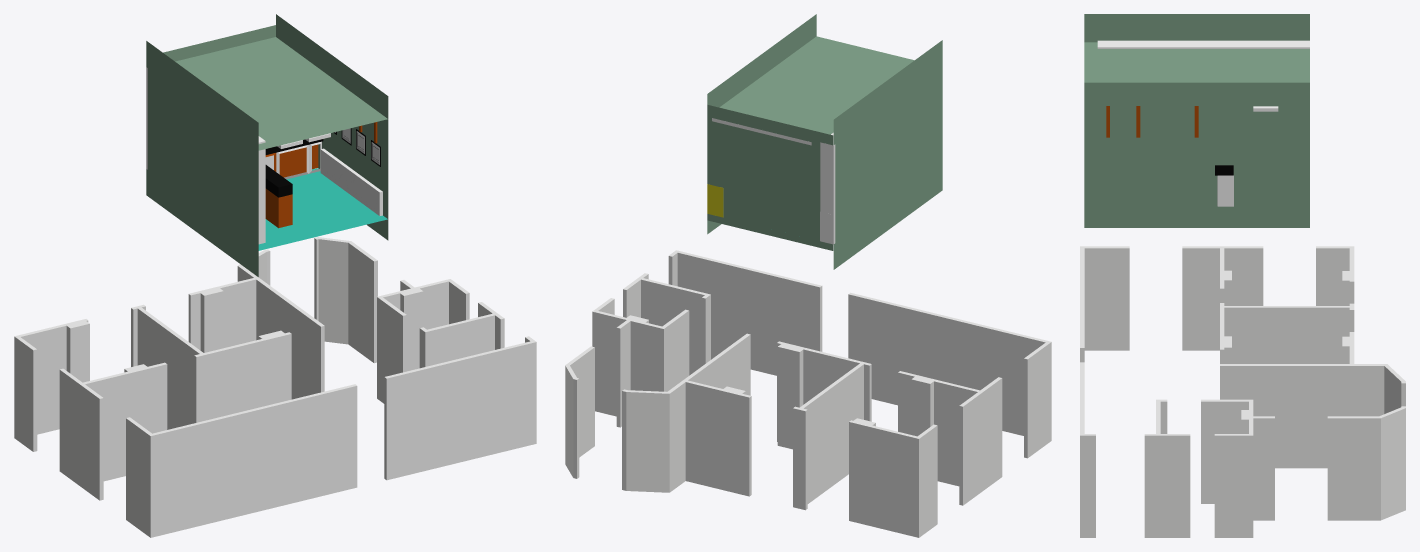
Rendered from uploads_files_3409036_mobile+shop.FBX.
The picture shows the model from 3 angles, left to right: view 1: azimuth 30°, elevation 25°; view 2: azimuth 150°, elevation 25°; view 3: azimuth 270°, elevation 25°; orthographic projection. The views are drawn at different scales.
Parts seen in each view (by area): view 1: Polyline003, Plane002, Plane003, Plane005, Plane001, Box031, Plane004, Box053, Line013, Box009, Object013; view 2: Polyline003, Plane002, Plane004, Plane003, Plane005, Box017; view 3: Polyline003, Plane005, Plane003, Plane002, Box064, Box027, Box028, Box029, Box030.
Boxes of the visible parts, x1,y1,x2,y2 form: Polyline003: (14,237,536,537); Plane002: (146,41,258,276); Plane003: (175,37,387,150); Plane005: (276,14,388,240); Plane001: (258,168,387,250); Box031: (320,148,382,215); Plane004: (163,25,275,61); Box053: (265,188,292,228); Line013: (265,139,323,197); Box009: (258,139,265,244); Object013: (279,147,306,177); Polyline003: (565,250,1051,537); Plane002: (833,40,942,269); Plane004: (707,104,833,250); Plane003: (719,36,914,134); Plane005: (707,14,816,234); Box017: (820,142,835,244); Polyline003: (1080,246,1405,537); Plane005: (1084,82,1309,227); Plane003: (1084,42,1309,82); Plane002: (1084,14,1309,42); Box064: (1217,175,1233,206); Box027: (1101,40,1150,48); Box028: (1154,40,1203,48); Box029: (1207,40,1256,48); Box030: (1260,40,1308,48).
Size of the model in its own units: 11910 by 11404 by 8665.
